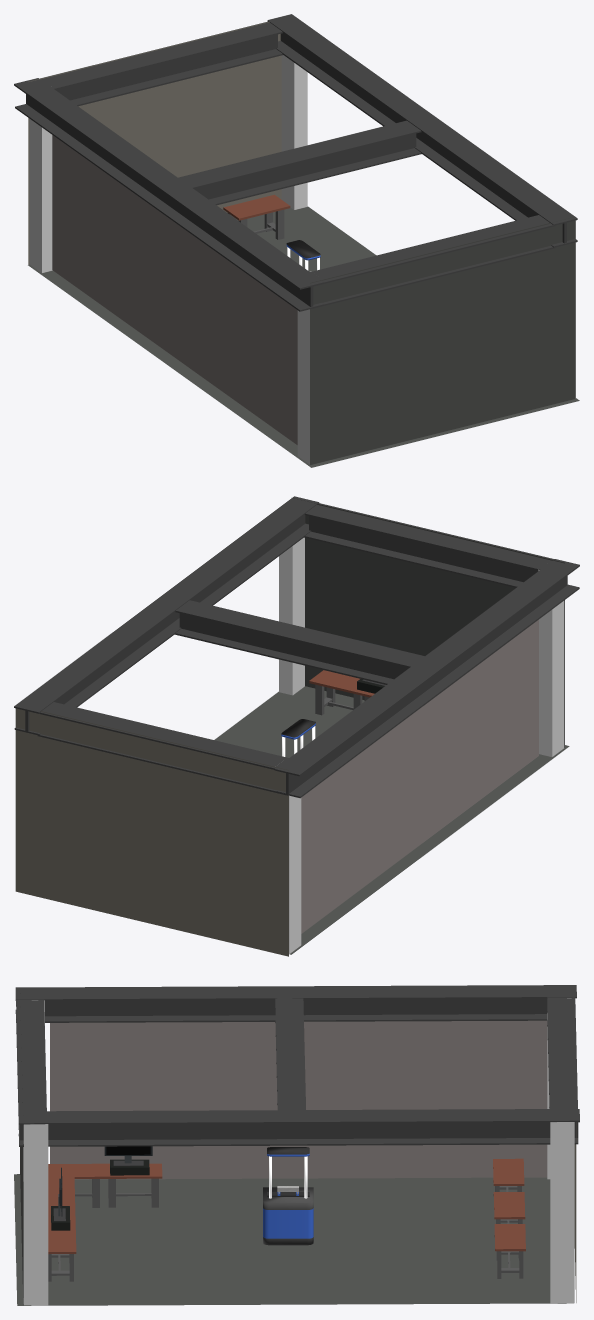
Rendered from escenario-flexion.gltf.
3 renders of one model, top to bottom at view 1: azimuth 30°, elevation 25°; view 2: azimuth 150°, elevation 25°; view 3: azimuth 270°, elevation 25°, orthographic.
Parts seen in each view (by area): view 1: Vigas_Amarre, ParedFondo, ParedIzquierda.005, ParedDerecha, Piso, Columna3, Columna4, Columna2, Mesa.Lab3; view 2: ParedDerecha, Vigas_Amarre, ParedIzquierda.005, ParedFondo, Piso, Columna2, Columna1, Columna3, Mesa.Lab8; view 3: Piso, ParedIzquierda.005, Vigas_Amarre, Columna1, Columna4, Plane.003, Mesa.Lab3, Computador1, Mesa.Lab8, Mesa.Lab5, Mesa.Lab4, Mesa.Lab1 (+6 smaller).
Part boxes in pixels (x1,y1,x2,y2): Vigas_Amarre: (14,14,577,311); ParedFondo: (310,216,575,464); ParedIzquierda.005: (52,135,297,444); ParedDerecha: (28,21,281,264); Piso: (28,206,579,467); Columna3: (29,119,52,272); Columna4: (281,55,307,209); Columna2: (297,271,311,464); Mesa.Lab3: (223,194,290,239); ParedDerecha: (15,708,288,956); Vigas_Amarre: (14,496,579,798); ParedIzquierda.005: (301,619,538,933); ParedFondo: (293,498,564,747); Piso: (214,686,569,954); Columna2: (538,569,564,756); Columna1: (279,537,304,695); Columna3: (275,766,301,954); Mesa.Lab8: (309,670,367,715); Piso: (14,1174,573,1305); ParedIzquierda.005: (50,1020,547,1179); Vigas_Amarre: (15,985,579,1146); Columna1: (23,1124,48,1305); Columna4: (550,1122,574,1303); Plane.003: (263,1187,313,1245); Mesa.Lab3: (494,1224,525,1278); Computador1: (104,1146,152,1175); Mesa.Lab8: (48,1226,76,1281); Mesa.Lab5: (48,1163,102,1207); Mesa.Lab4: (103,1163,162,1207); Mesa.Lab1: (493,1158,524,1191).
Size of the model in its own units: 10.6 by 6.51 by 18.2.
27 materials, 1 textured.
